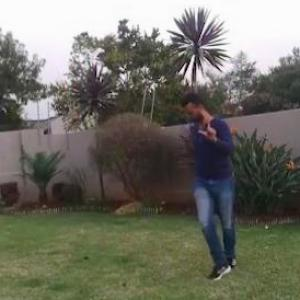land_hand: (197, 114, 222, 147)
